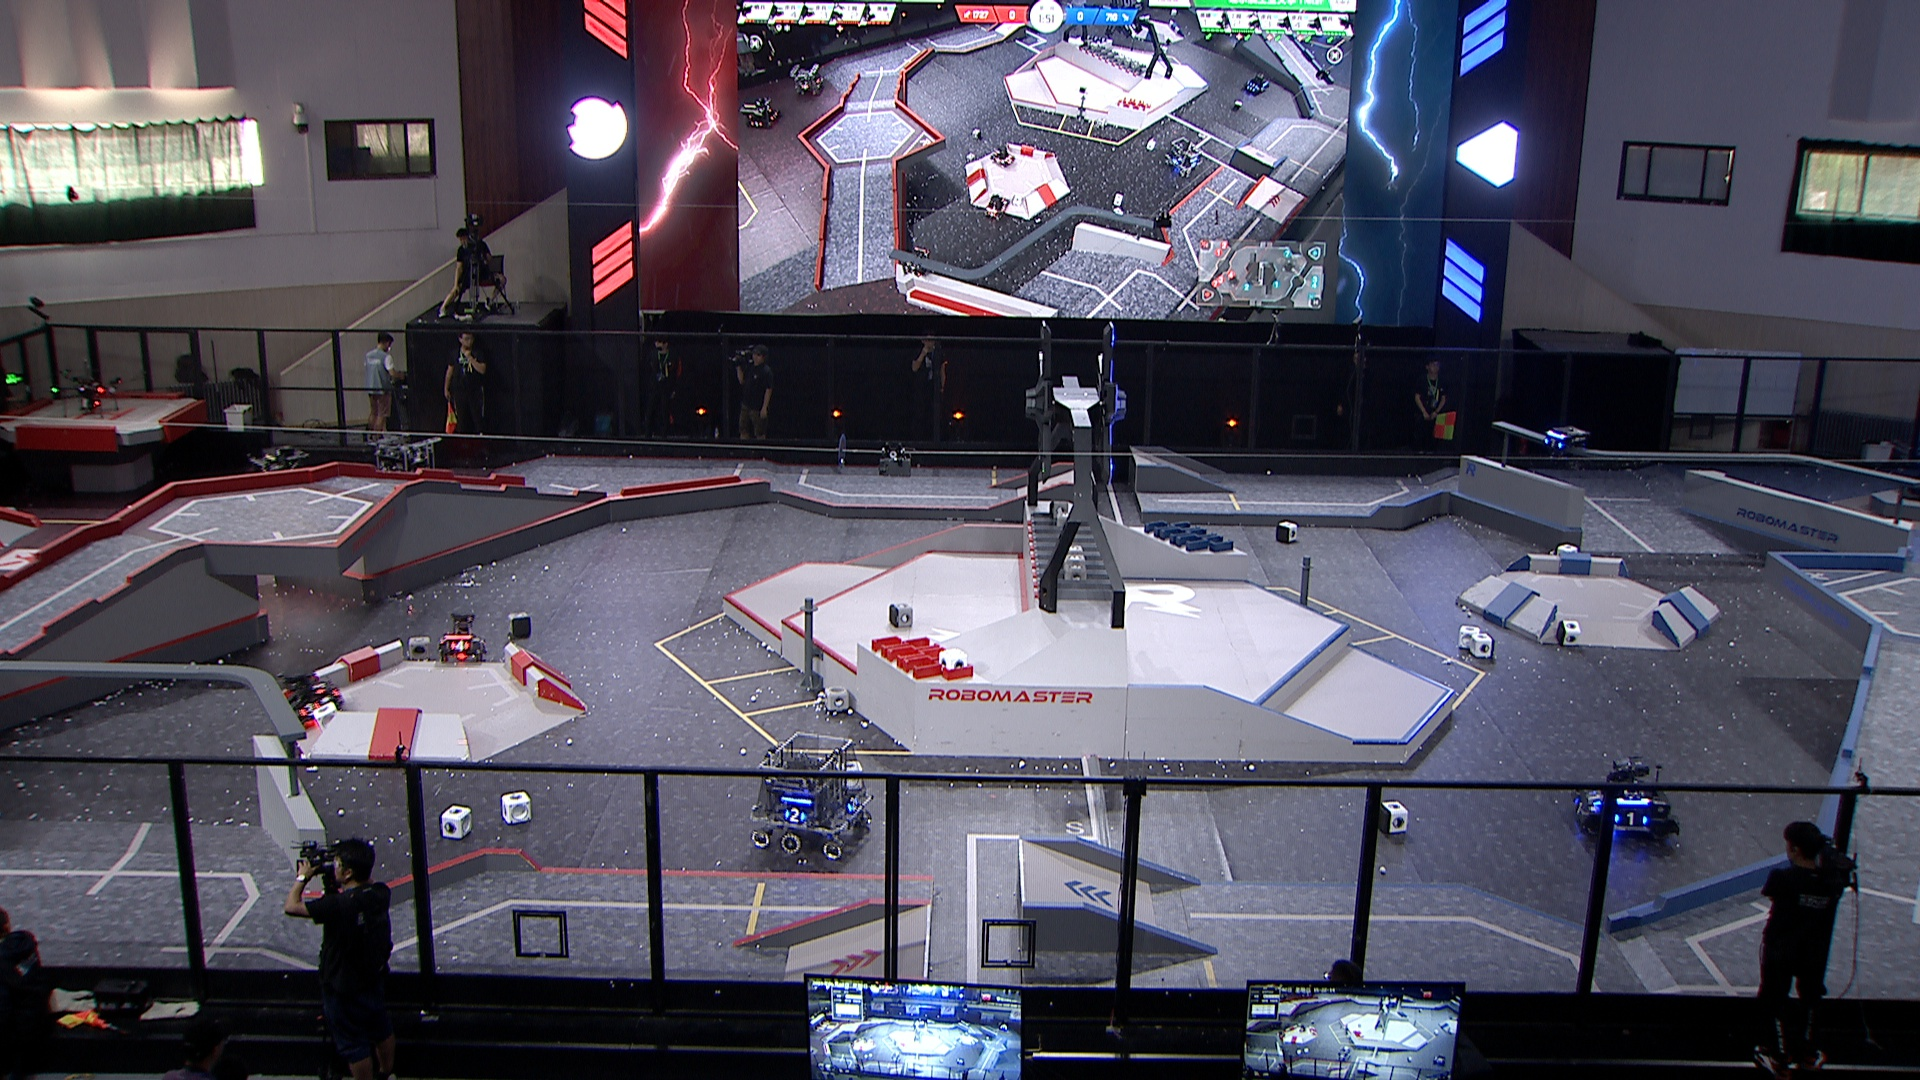armor: (1614, 811, 1650, 829), (782, 807, 808, 825), (1571, 796, 1590, 820), (299, 700, 323, 719), (1585, 789, 1605, 808), (448, 638, 472, 654), (1542, 438, 1565, 452), (311, 680, 328, 695), (847, 796, 861, 814)
car: (746, 731, 876, 861), (1571, 756, 1683, 851), (368, 433, 443, 506), (269, 671, 347, 735), (244, 444, 315, 509), (436, 608, 485, 665)
ignore: (1163, 136, 1205, 174), (741, 98, 779, 129), (789, 63, 823, 95), (902, 247, 928, 278), (982, 193, 1010, 222), (1245, 73, 1269, 96), (988, 146, 1015, 166)
watcher: (1542, 425, 1588, 467)
